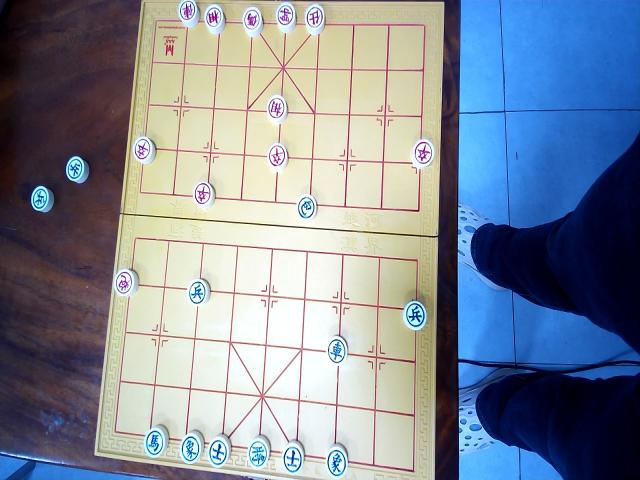piece: (410, 137, 436, 170), (207, 433, 231, 468), (247, 435, 271, 470), (179, 430, 203, 465), (144, 424, 168, 458), (326, 444, 348, 480), (403, 298, 427, 330), (282, 440, 304, 474), (114, 267, 138, 298), (304, 3, 326, 36), (275, 1, 297, 34), (242, 5, 264, 37), (203, 3, 225, 35), (132, 135, 155, 165), (326, 335, 348, 366), (192, 181, 215, 210), (187, 278, 210, 307), (177, 0, 198, 29), (266, 94, 286, 124), (267, 142, 287, 171), (296, 193, 316, 220)
